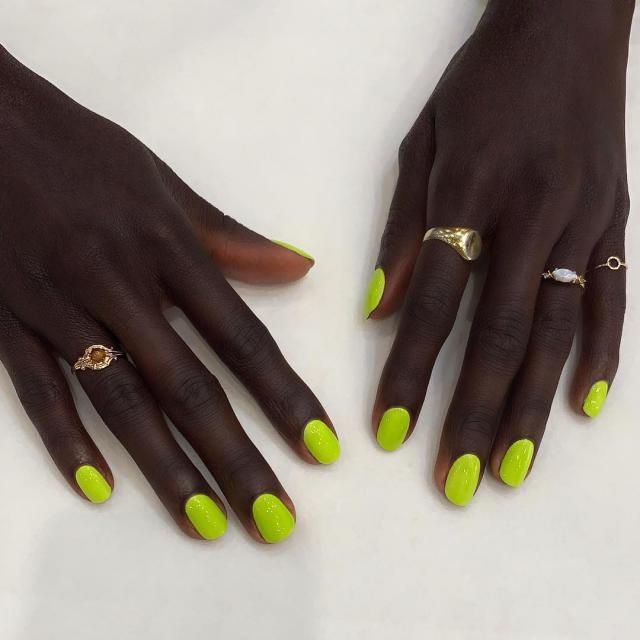Nail: (252, 494, 295, 543), (444, 454, 481, 506), (185, 495, 226, 539), (499, 439, 535, 486), (302, 420, 340, 464), (376, 406, 411, 451), (75, 465, 111, 503), (582, 380, 609, 417), (368, 268, 385, 317)
